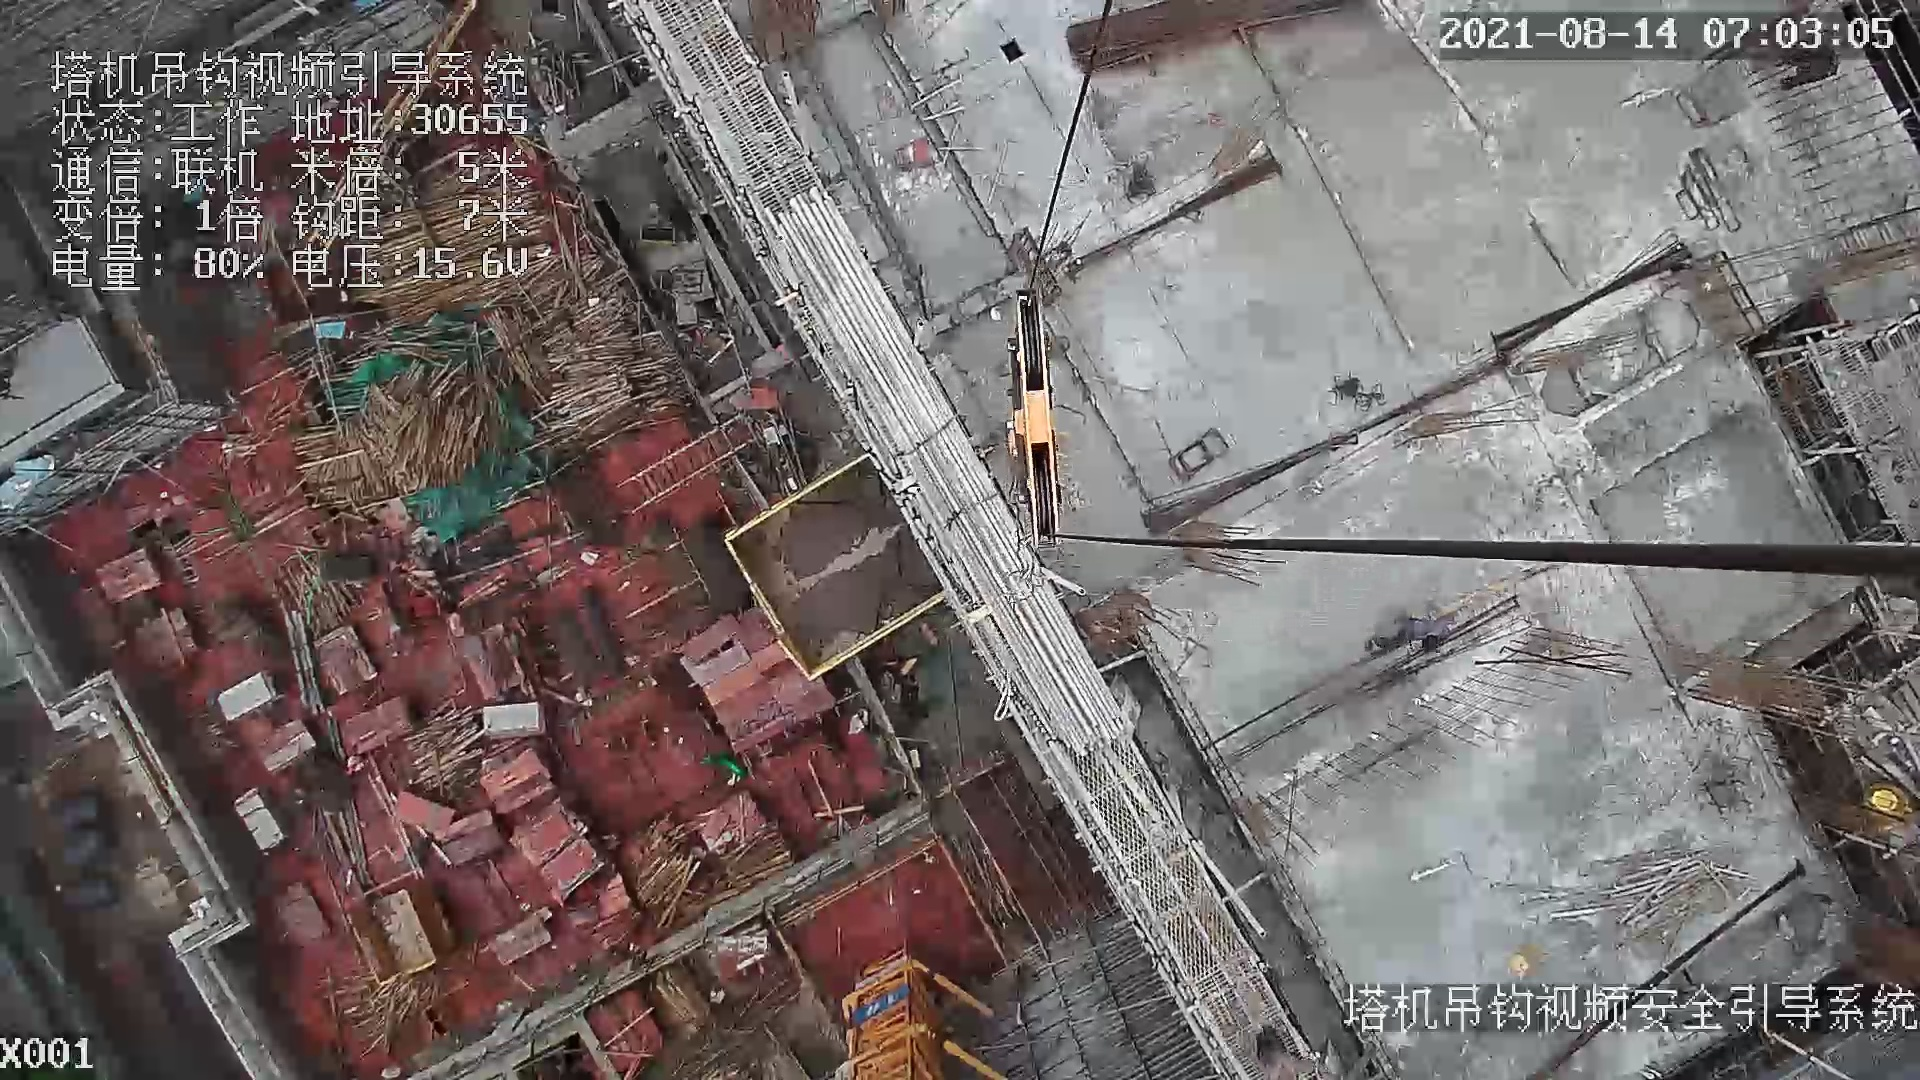hook: (999, 281, 1073, 535)
person: (1363, 610, 1465, 653)
slogan: (849, 980, 906, 1026)
